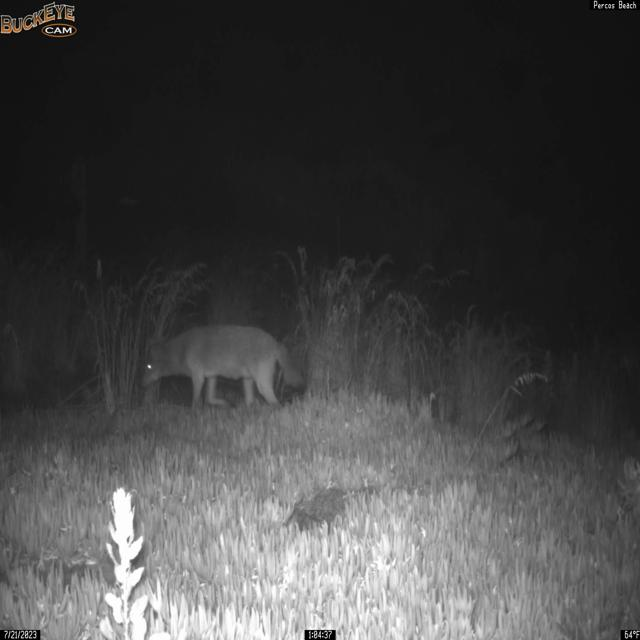coyote: (138, 323, 307, 412)
